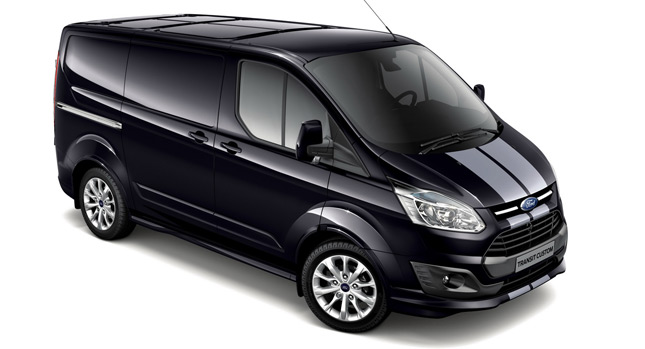van: (51, 11, 570, 333)
